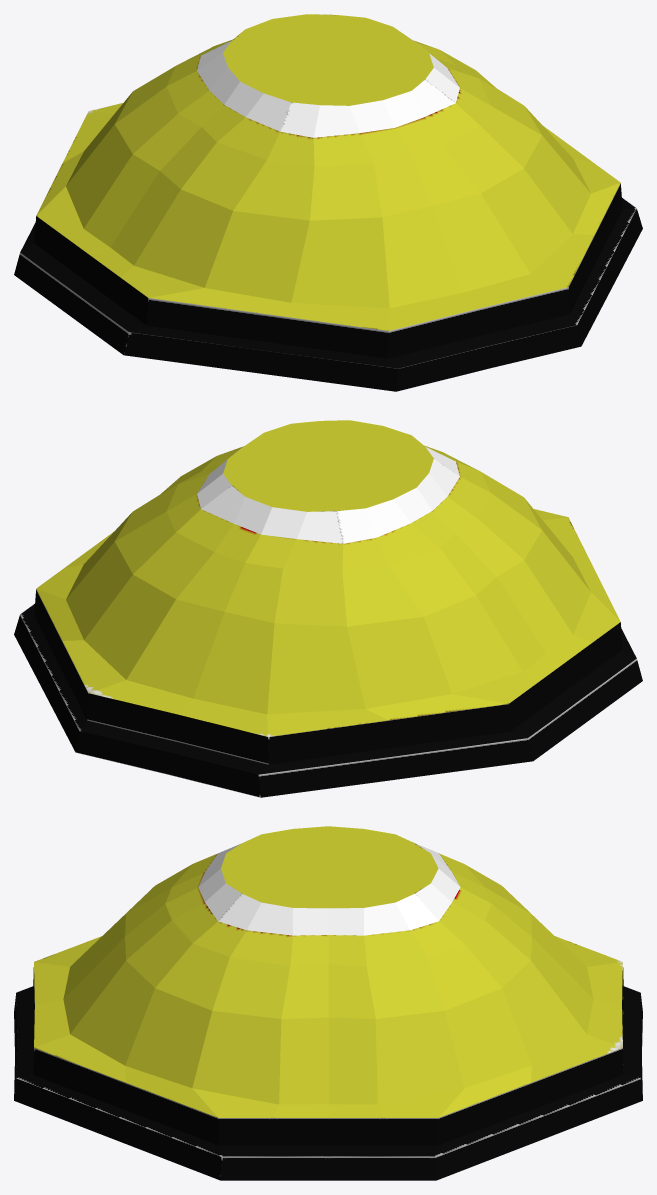
The model's file is note_three.fbx.
3 views of the same model, one above another, from view 1: azimuth 30°, elevation 25°; view 2: azimuth 150°, elevation 25°; view 3: azimuth 270°, elevation 25° (orthographic).
Visible parts, largest first — view 1: pasted__polySurface1; view 2: pasted__polySurface1; view 3: pasted__polySurface1.
Part boxes in pixels (<box>): pasted__polySurface1: <box>14,14,642,391</box>; pasted__polySurface1: <box>14,420,642,797</box>; pasted__polySurface1: <box>14,826,642,1180</box>.
Bounding box in the file's own units: 1.05 × 0.3718 × 1.13.
1 material, 1 textured.
